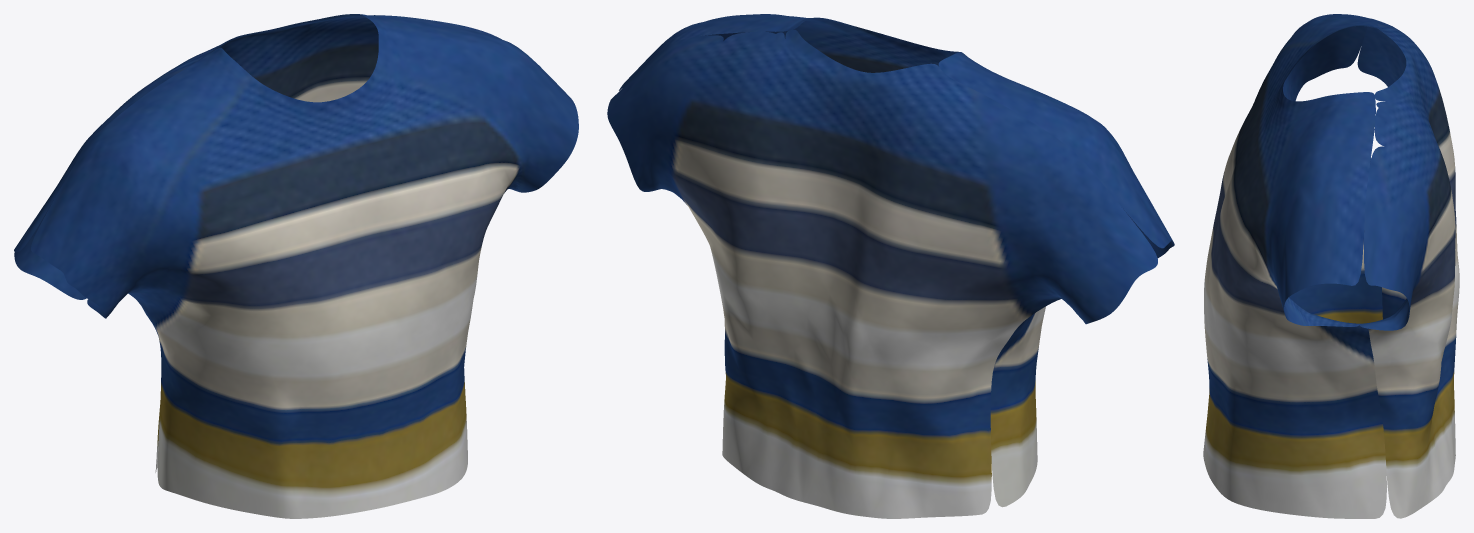
The model's file is TXS_XLM.dae.
3 views of the same model, side by side, from view 1: azimuth 30°, elevation 25°; view 2: azimuth 150°, elevation 25°; view 3: azimuth 270°, elevation 25° (orthographic). The views are drawn at different scales.
Parts seen in each view (by area): view 1: txs; view 2: txs; view 3: txs.
Boxes of the visible parts, left/top/right/bottom form: txs: left=14, top=14, right=578, bottom=518; txs: left=607, top=14, right=1174, bottom=518; txs: left=1203, top=14, right=1459, bottom=518.
Bounding box in the file's own units: 6.12 × 4.63 × 2.67.
